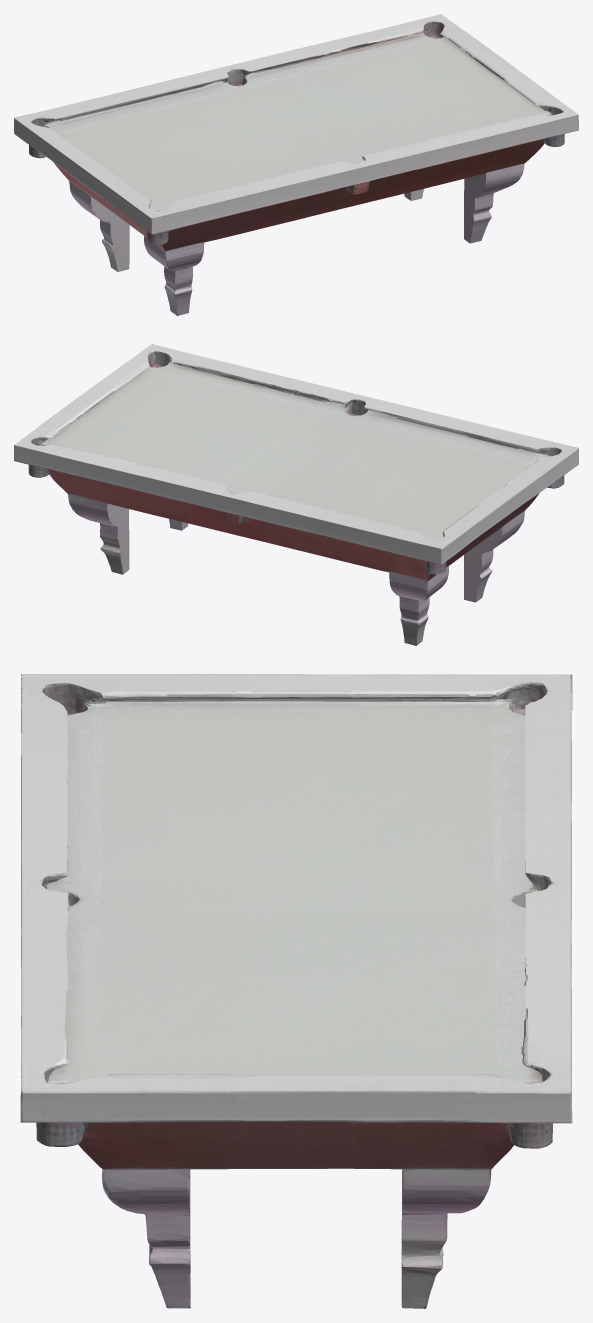
File: original_slat.glb
The picture shows the model from 3 angles, top to bottom: view 1: azimuth 30°, elevation 25°; view 2: azimuth 150°, elevation 25°; view 3: azimuth 270°, elevation 25°; orthographic projection. The views are drawn at different scales.
Parts seen in each view (by area): view 1: world; view 2: world; view 3: world.
Part boxes in pixels (x1,y1,x2,y2): world: (14, 14, 578, 315); world: (14, 344, 578, 645); world: (20, 674, 572, 1308).
Size of the model in its own units: 0.8453 by 0.2623 by 0.4719.
Materials: 1 (1 with a texture image).
